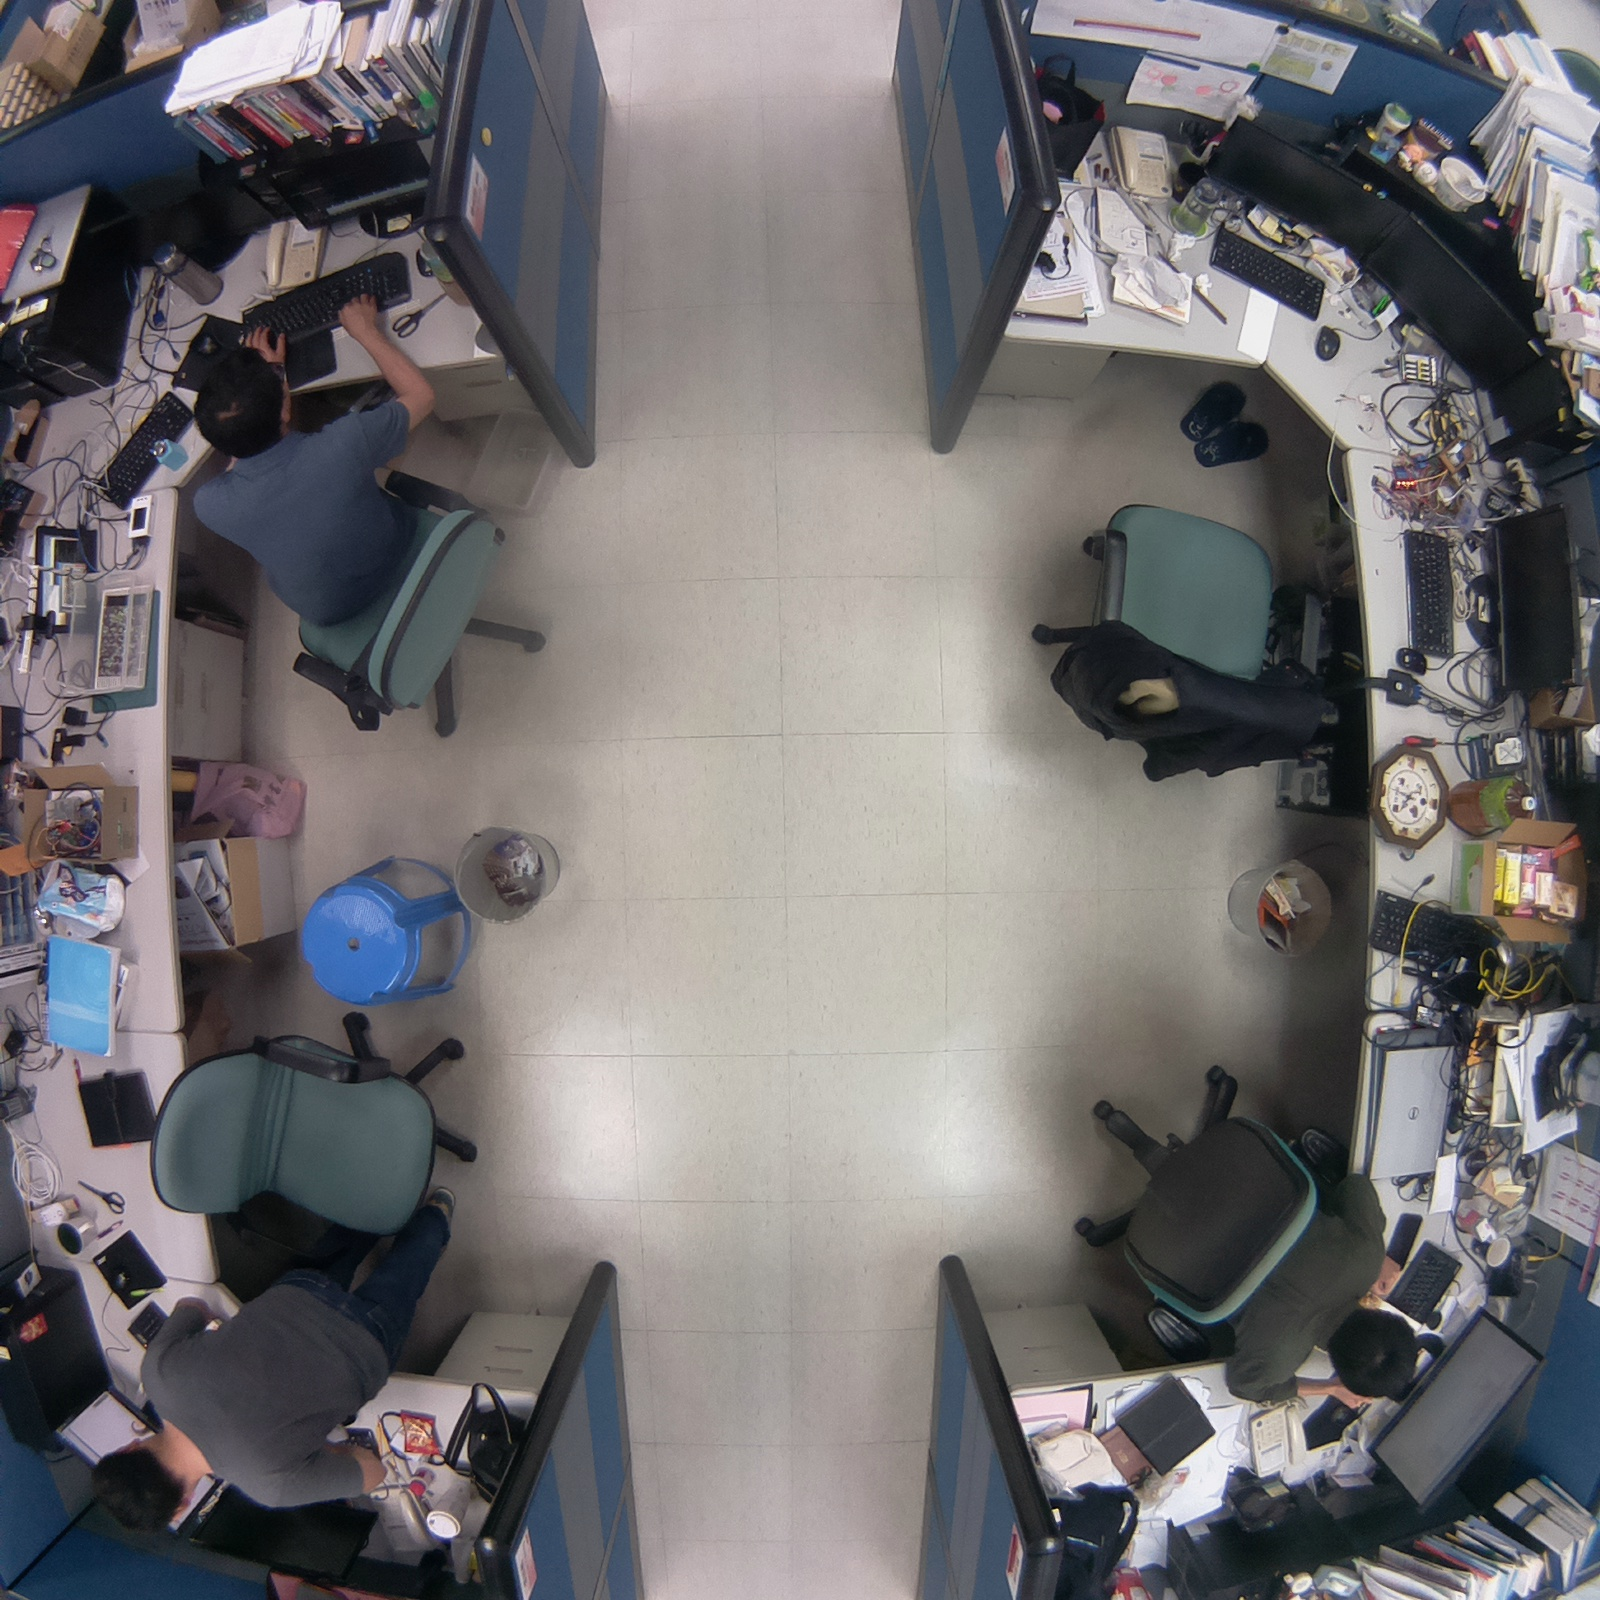chair: (1022, 468, 1353, 804), (137, 996, 499, 1250)
head: (180, 341, 307, 455), (86, 1435, 213, 1541), (1325, 1300, 1421, 1410)
sitting: (181, 292, 563, 755), (1045, 1047, 1426, 1418)
standing: (80, 1171, 470, 1549)
